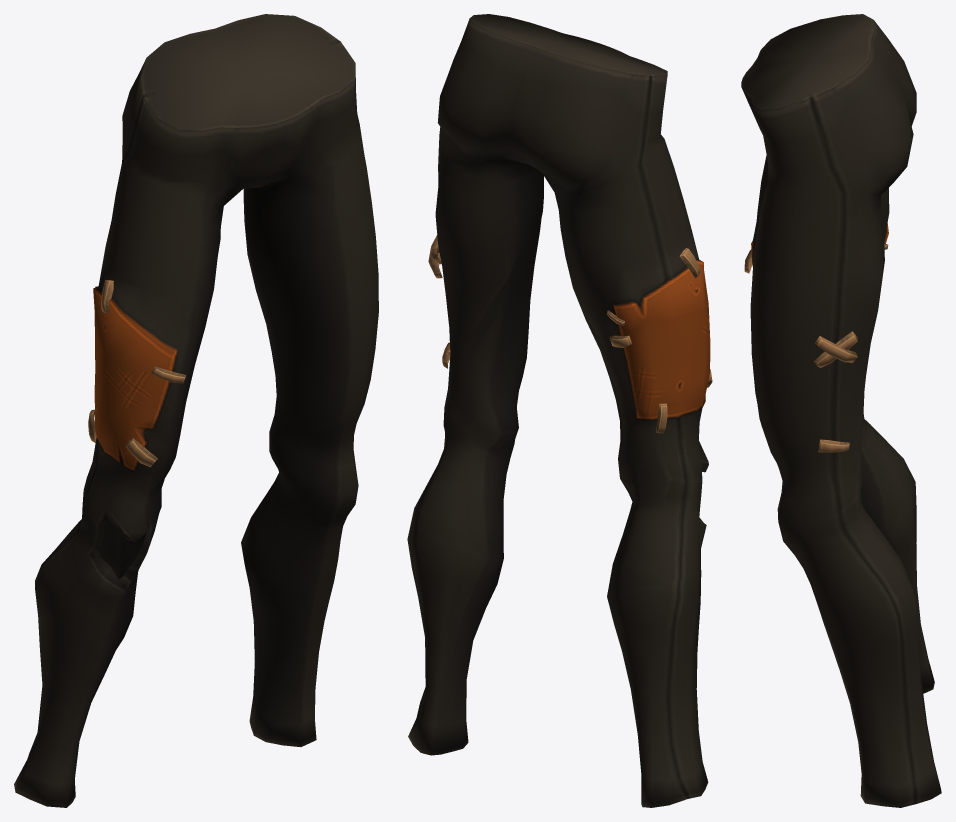
The model's file is female_pants2.glb.
3 renders of one model, left to right at view 1: azimuth 30°, elevation 25°; view 2: azimuth 150°, elevation 25°; view 3: azimuth 270°, elevation 25°, orthographic. The views are drawn at different scales.
Parts seen in each view (by area): view 1: node_id160; view 2: node_id160; view 3: node_id160.
Boxes of the visible parts, x1,y1,x2,y2 form: node_id160: (14, 14, 378, 807); node_id160: (407, 14, 712, 807); node_id160: (741, 14, 941, 807).
Bounding box in the file's own units: 0.2264 × 0.512 × 0.1283.
Materials: 1 (1 with a texture image).
